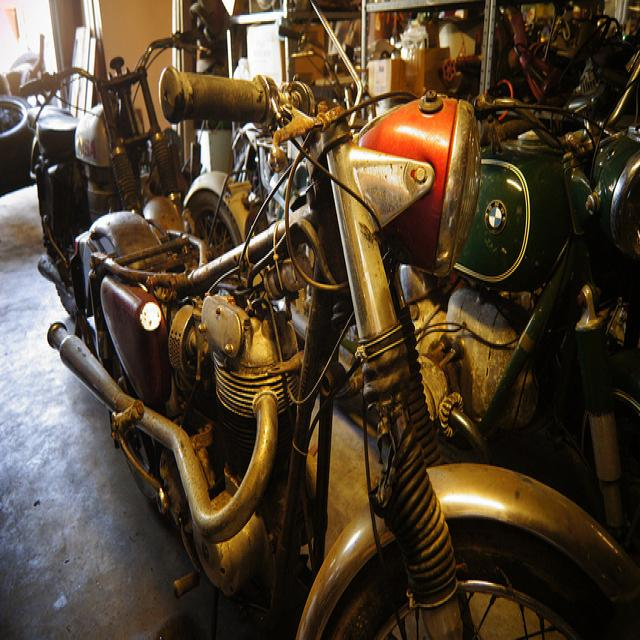motor: (49, 73, 638, 632), (402, 52, 640, 565), (19, 35, 190, 319)
